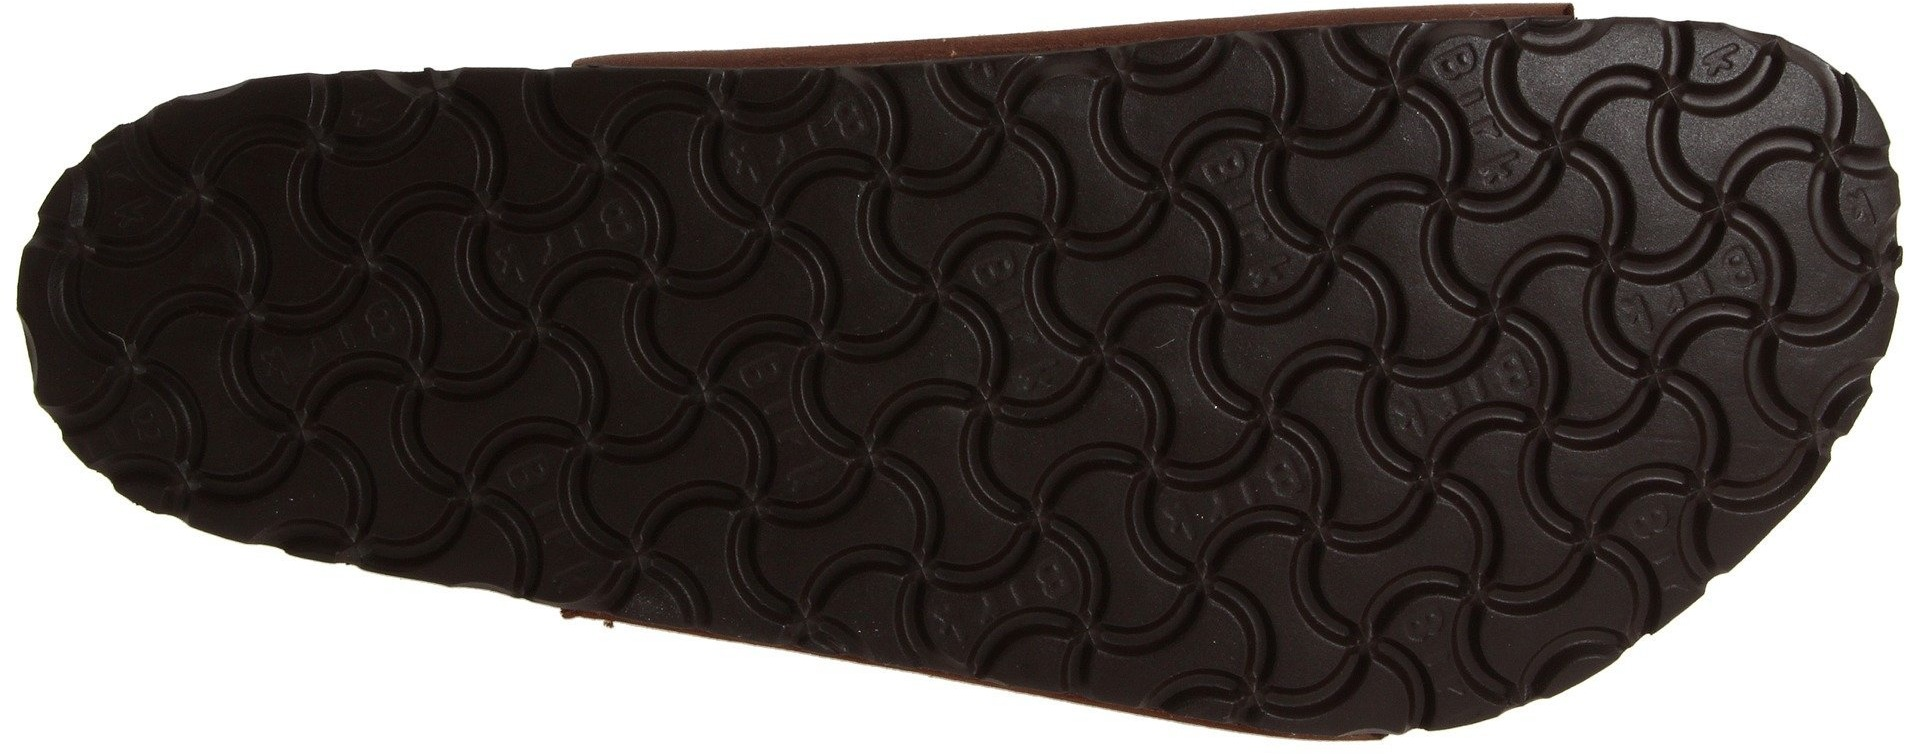bowtie: (698, 92, 1244, 607), (1273, 41, 1752, 486), (220, 126, 673, 540), (117, 147, 474, 474), (914, 221, 1117, 417), (470, 151, 669, 336), (479, 404, 669, 579), (1467, 484, 1624, 638)
text: (698, 92, 1244, 607), (1273, 41, 1752, 486), (220, 126, 673, 540)
